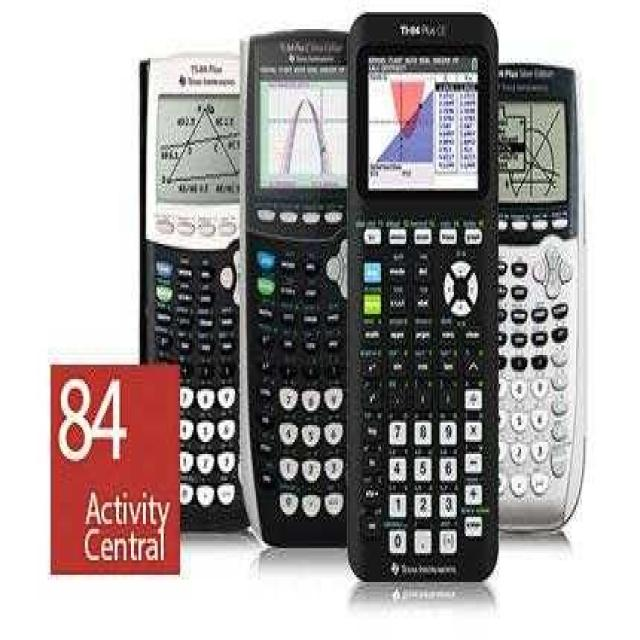Calculator: (345, 10, 499, 582), (240, 27, 350, 548), (138, 49, 248, 532), (496, 60, 586, 534)
